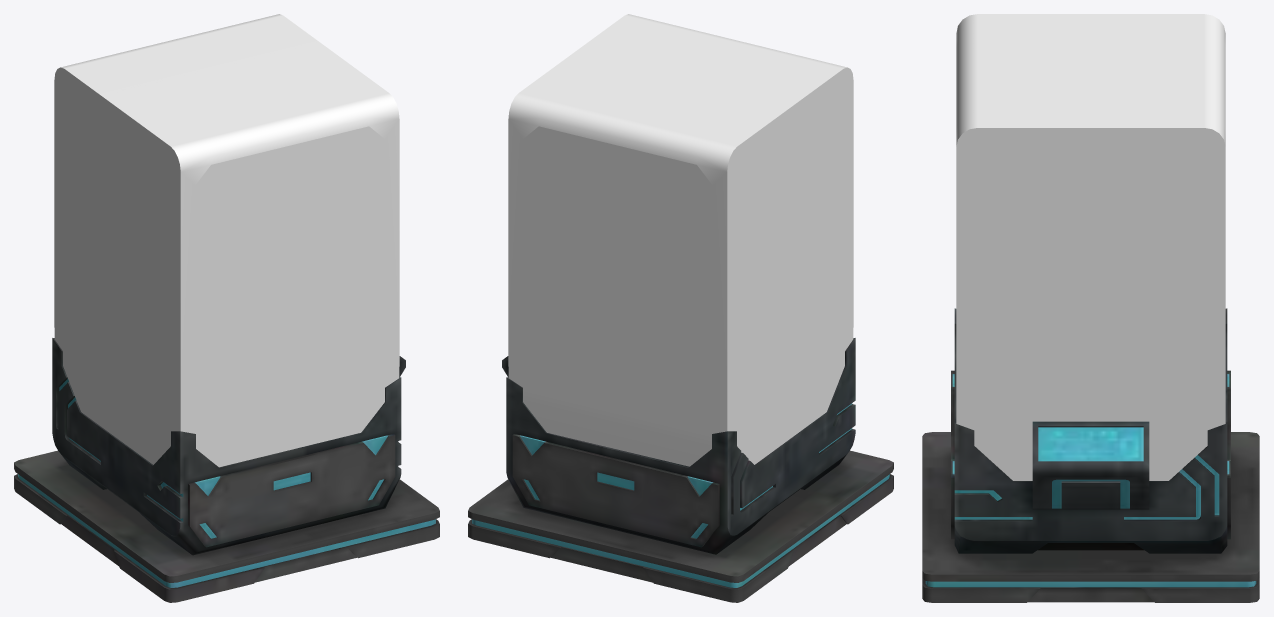
Rendered from SM_PalFourDimensionalBox_f536cf.glb.
3 renders of one model, left to right at view 1: azimuth 30°, elevation 25°; view 2: azimuth 150°, elevation 25°; view 3: azimuth 270°, elevation 25°, orthographic. The views are drawn at different scales.
Size of the model in its own units: 1.83 by 2.61 by 1.73.
Materials: 3 (2 with a texture image).
